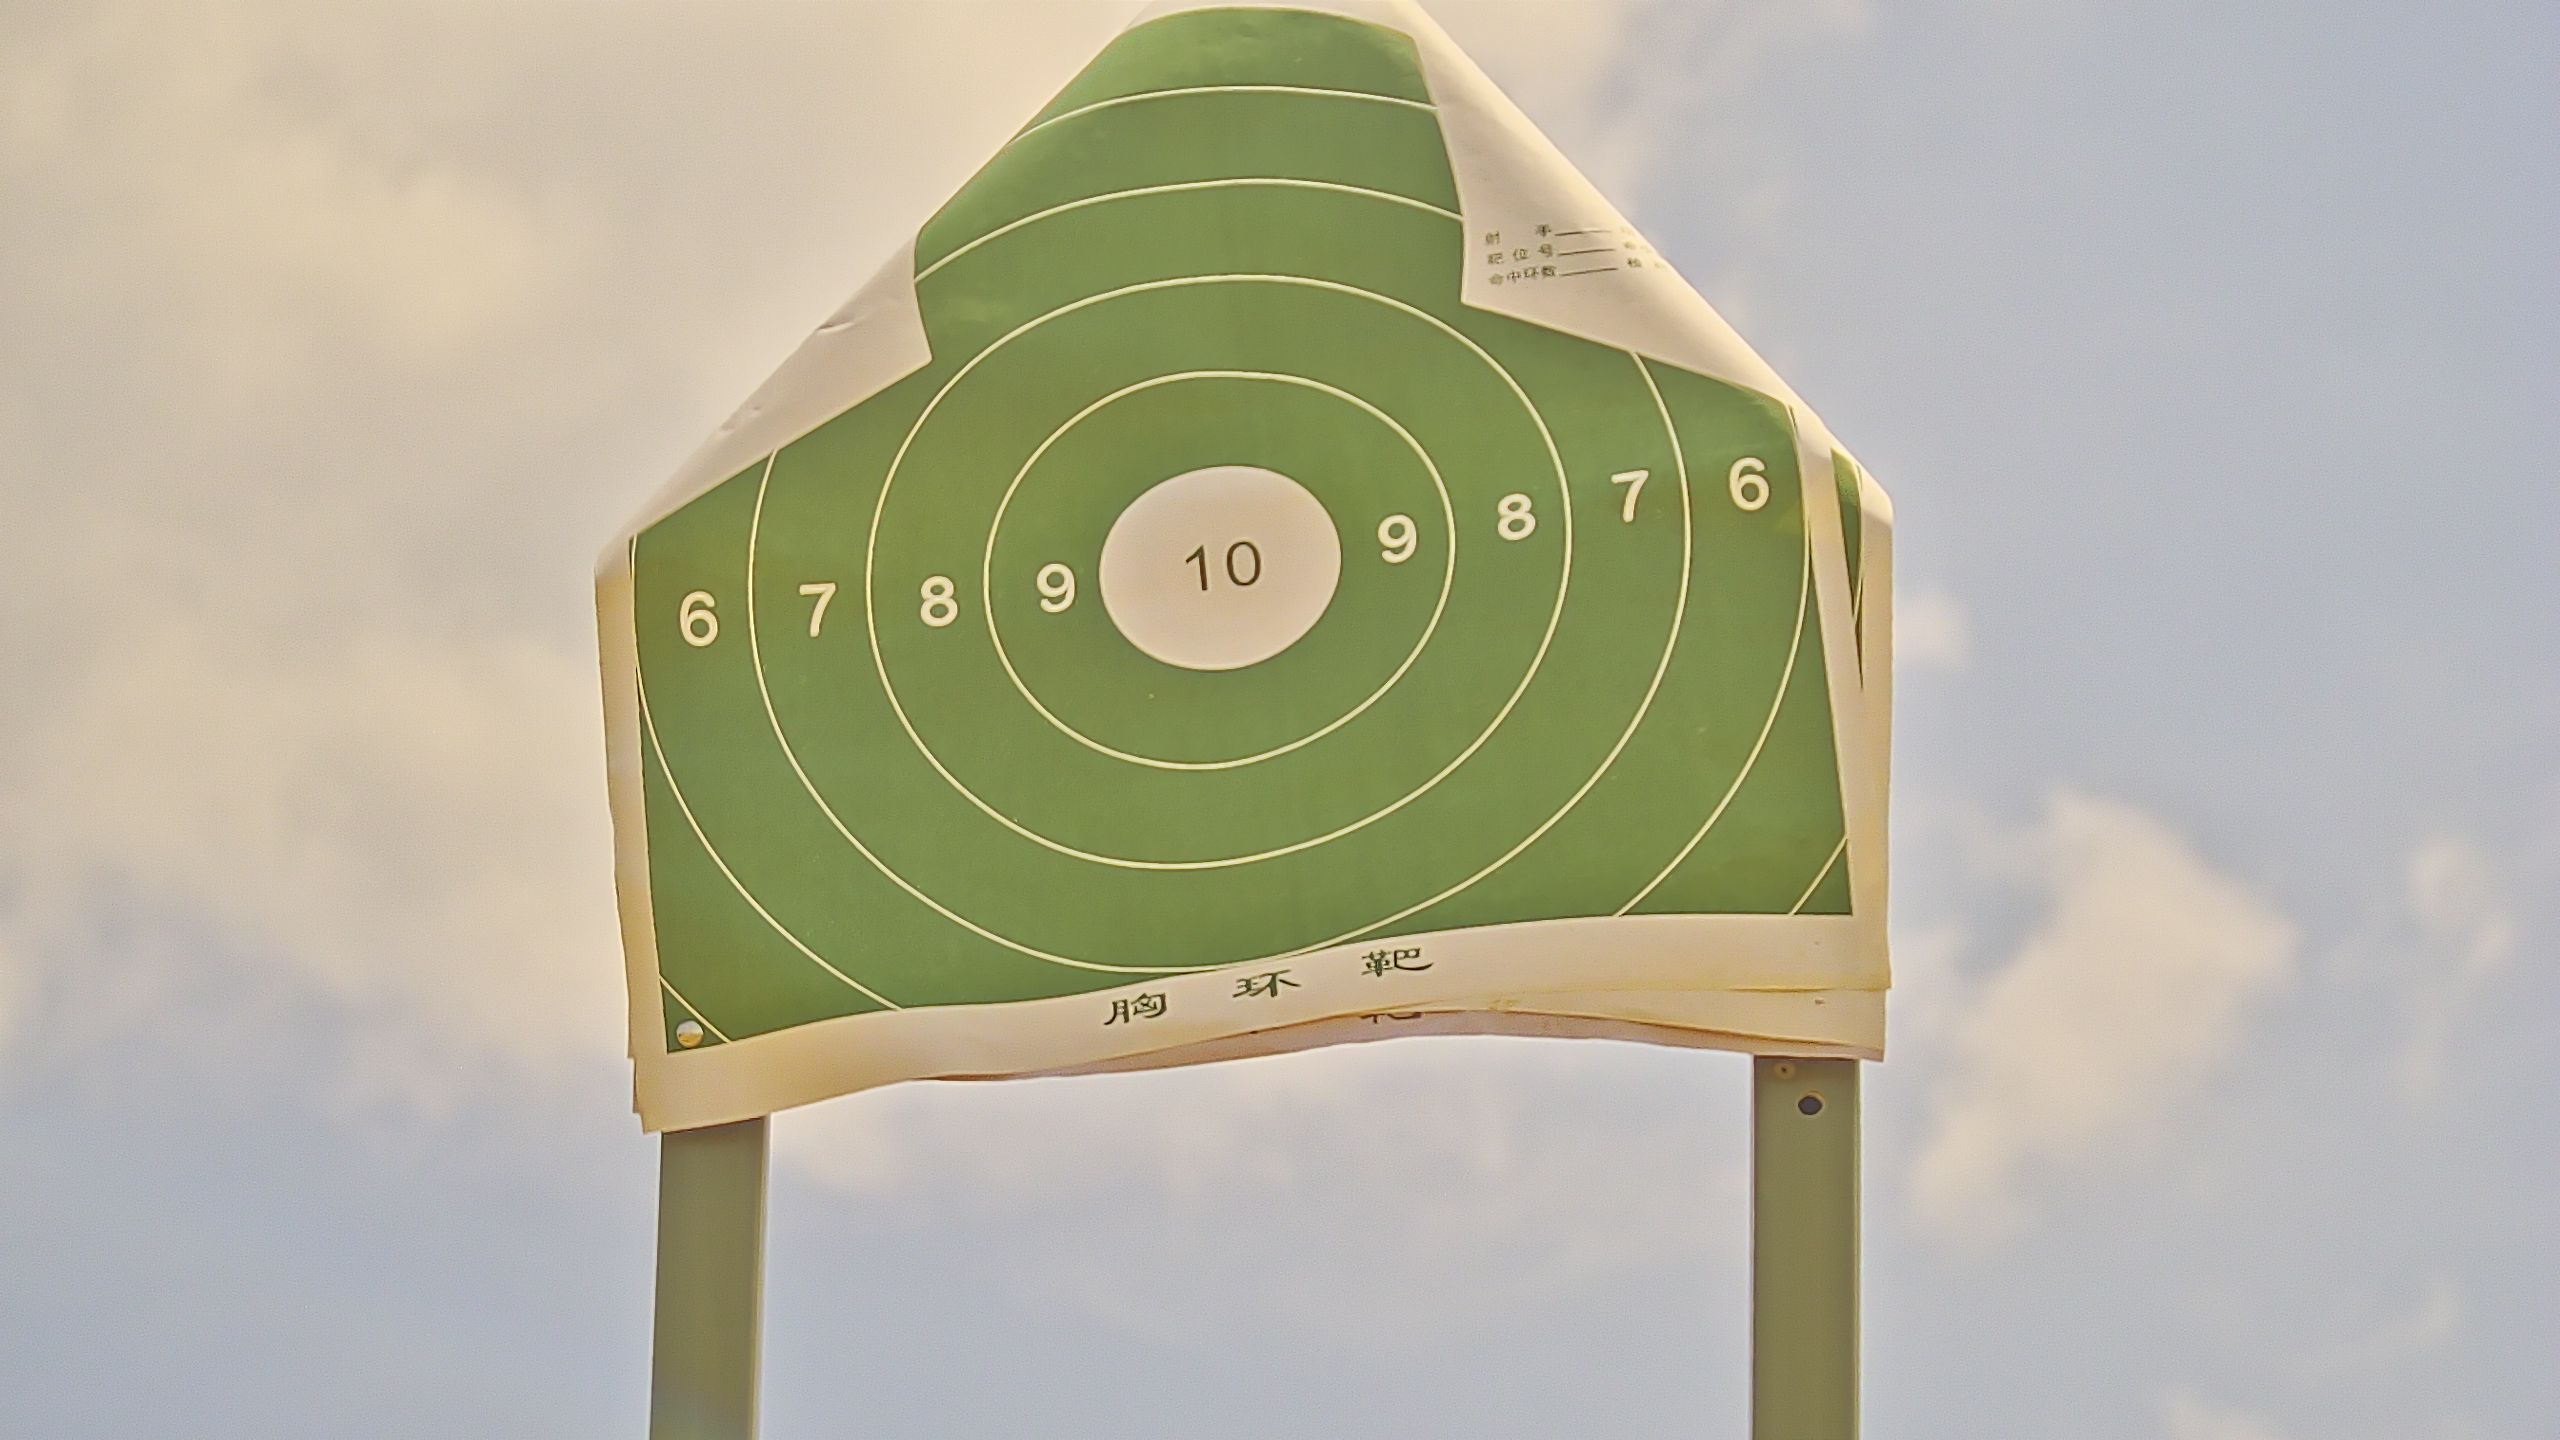target: (629, 12, 1860, 1060)
ten: (1097, 464, 1340, 675)
